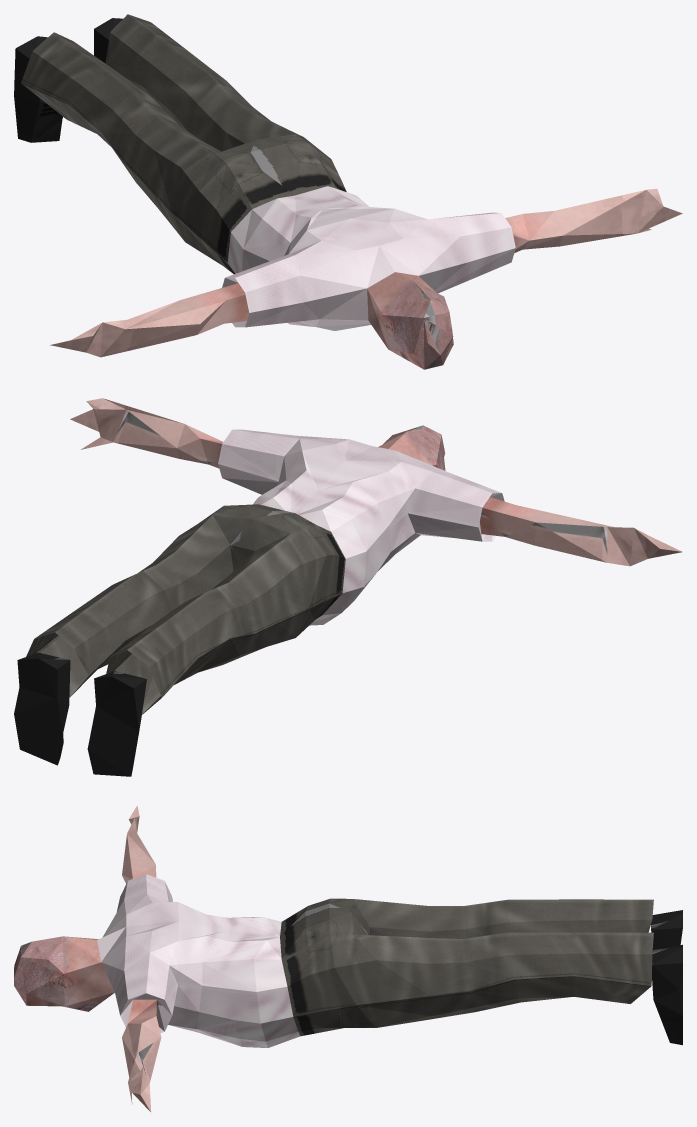
Rendered from tomdrinman2_3klow_wtf.obj.
The picture shows the model from 3 angles, top to bottom: view 1: azimuth 30°, elevation 25°; view 2: azimuth 150°, elevation 25°; view 3: azimuth 270°, elevation 25°; orthographic projection. The views are drawn at different scales.
Visible parts, largest first — view 1: group1; view 2: group1; view 3: group1.
Boxes of the visible parts, <box> form: group1: <box>14,14,682,369</box>; group1: <box>14,398,682,776</box>; group1: <box>14,805,682,1112</box>.
Size of the model in its own units: 639 by 136 by 642.
